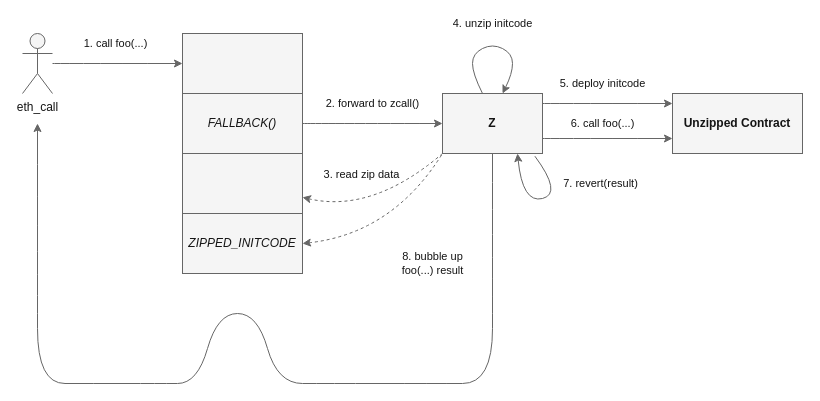
Image size: 820x401. Some labels were removed from this diagram. Each missing label, with the centre of its shape:
"METADATA" belongs at pixel 242 183.
"Self-Extracting Zipped Contract" belongs at pixel 242 63.
